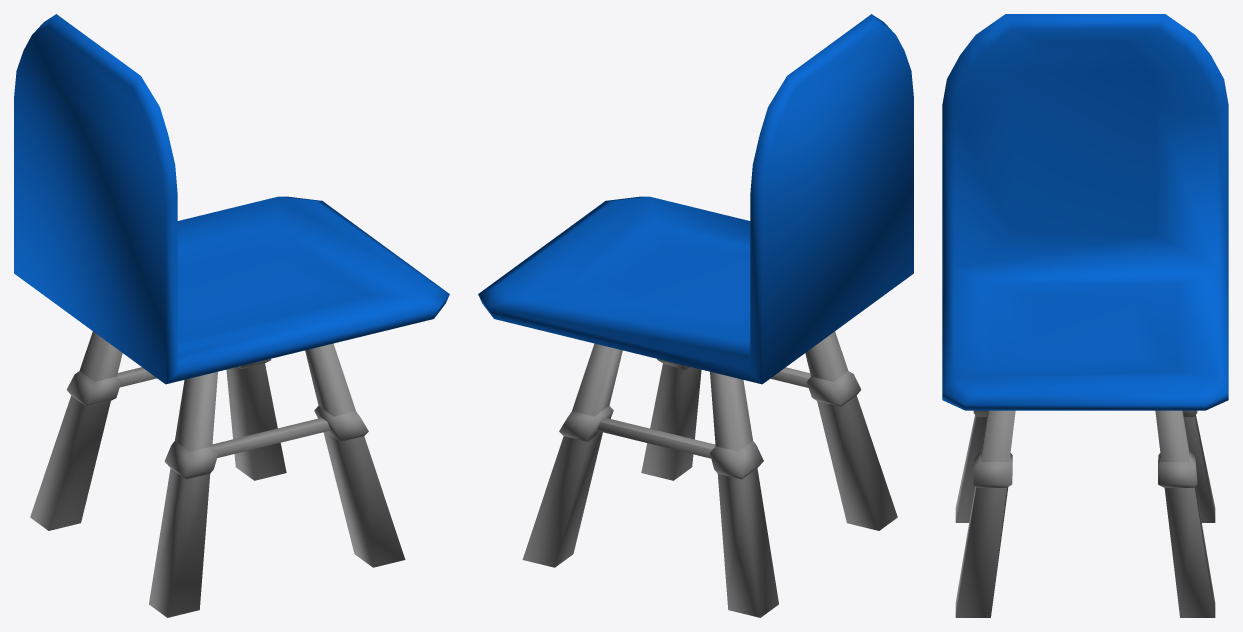
File: DebrisChair.fbx
The picture shows the model from 3 angles, left to right: view 1: azimuth 30°, elevation 25°; view 2: azimuth 150°, elevation 25°; view 3: azimuth 270°, elevation 25°; orthographic projection. The views are drawn at different scales.
Parts seen in each view (by area): view 1: Cube.001; view 2: Cube.001; view 3: Cube.001.
Boxes of the visible parts, bbox=[...] form: Cube.001: bbox=[14, 14, 449, 617]; Cube.001: bbox=[478, 14, 913, 617]; Cube.001: bbox=[942, 14, 1228, 617].
Size of the model in its own units: 144 by 243 by 128.
